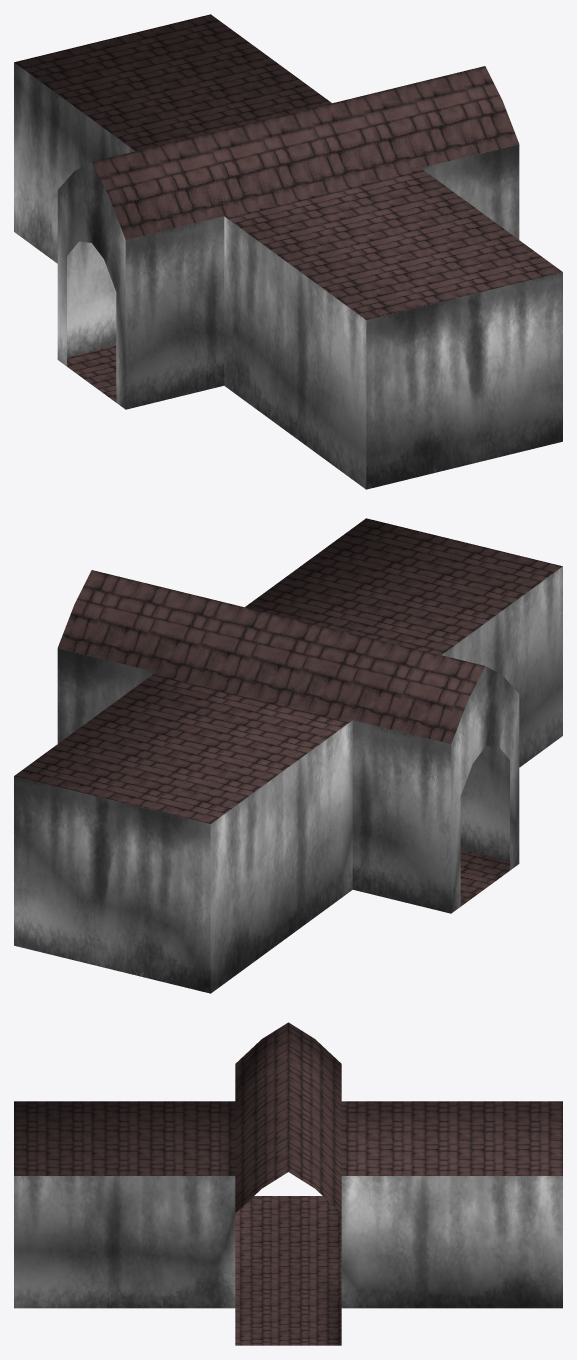
The model's file is MOD_L1_Prison_01.fbx.
The picture shows the model from 3 angles, top to bottom: view 1: azimuth 30°, elevation 25°; view 2: azimuth 150°, elevation 25°; view 3: azimuth 270°, elevation 25°; orthographic projection. The views are drawn at different scales.
Parts seen in each view (by area): view 1: prisonBlock01; view 2: prisonBlock01; view 3: prisonBlock01.
Part boxes in pixels (left/top/right/bottom): prisonBlock01: left=14, top=14, right=562, bottom=489; prisonBlock01: left=14, top=518, right=562, bottom=993; prisonBlock01: left=14, top=1022, right=562, bottom=1345.
Size of the model in its own units: 160 by 87.19 by 248.
